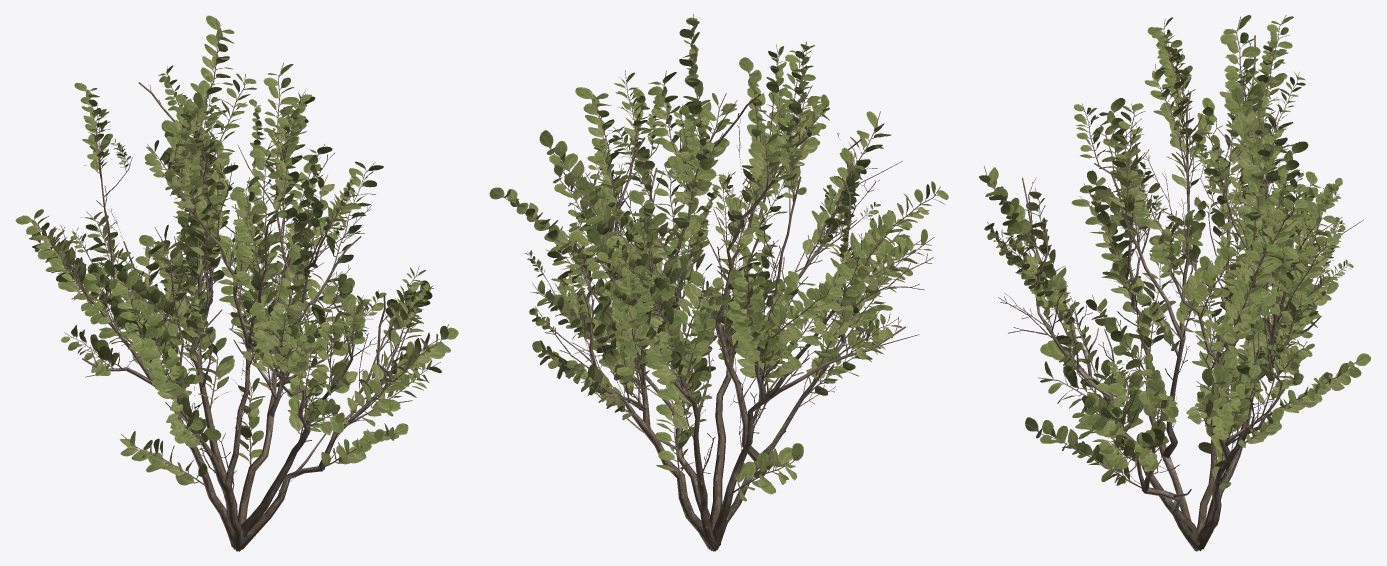
The model's file is UE_searsia_lucida_d.gltf.
3 renders of one model, left to right at view 1: azimuth 30°, elevation 25°; view 2: azimuth 150°, elevation 25°; view 3: azimuth 270°, elevation 25°, orthographic. The views are drawn at different scales.
Visible parts, largest first — view 1: searsia_lucida_d; view 2: searsia_lucida_d; view 3: searsia_lucida_d.
Boxes of the visible parts, left/top/right/bottom form: searsia_lucida_d: left=15, top=15, right=458, bottom=551; searsia_lucida_d: left=489, top=14, right=948, bottom=551; searsia_lucida_d: left=979, top=15, right=1370, bottom=551.
Bounding box in the file's own units: 1.1 × 1.42 × 0.9539.
3 materials, 3 textured.
